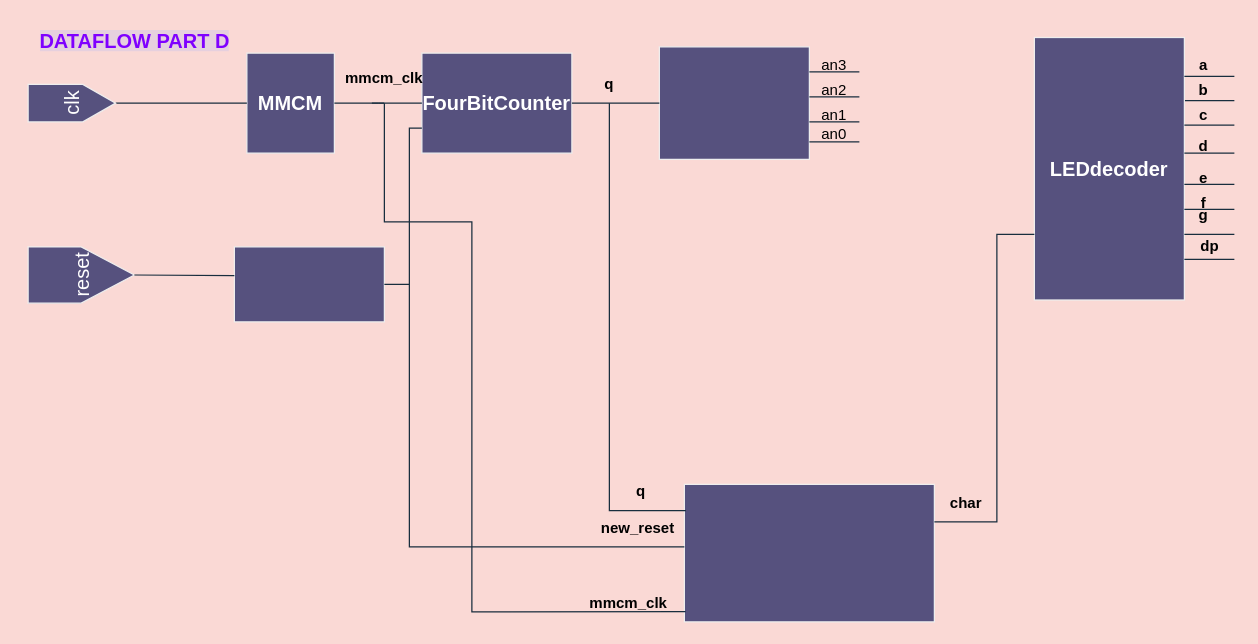
The diagram is 1258 pixels wide and 644 high, and some of its shapes have lost their labels. The shapes that lost their labels are listed below. From the top down, each one's centre as x and y in pixels, then its label:
At point (733, 102): "AnodesDriver".
At point (308, 284): "anti_bounce".
At point (808, 552): "TimeScrollingMessage".
